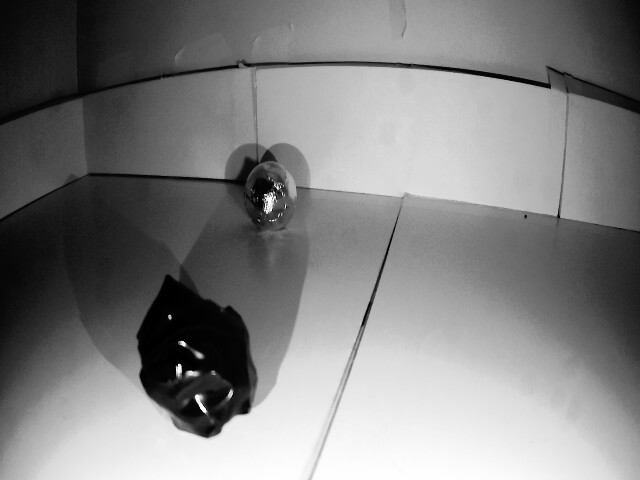black: (130, 270, 259, 432)
silver: (244, 160, 303, 233)
